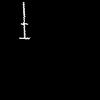double_crochet: (20, 2, 29, 38)
